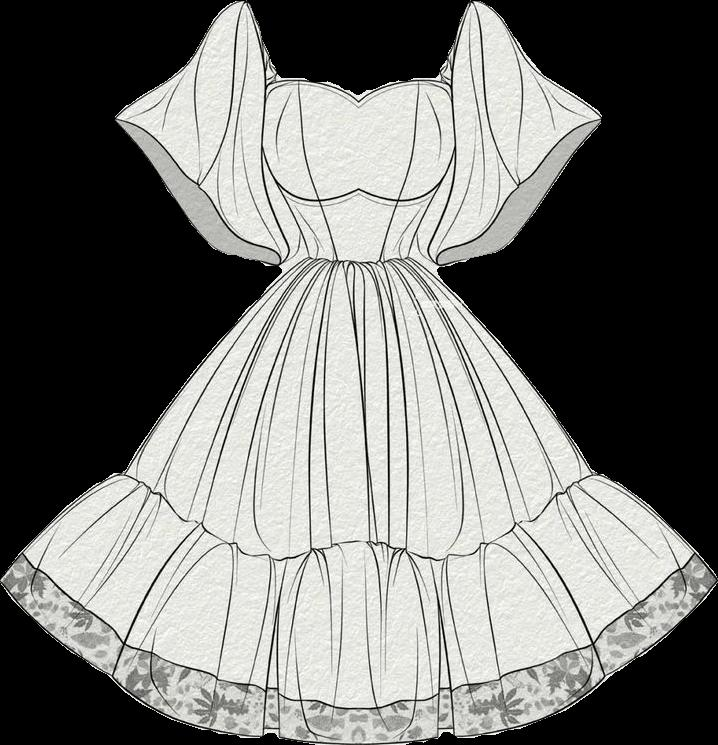Bodice: (258, 78, 459, 266)
Hemline: (0, 578, 717, 744), (126, 467, 593, 566)
Neckline: (244, 3, 477, 105)
Skirt: (1, 254, 716, 744)
Sleeve: (115, 1, 293, 267), (425, 1, 601, 264)
Sleeveline: (442, 3, 482, 87), (244, 0, 273, 91)
Waistline: (301, 252, 413, 271)
